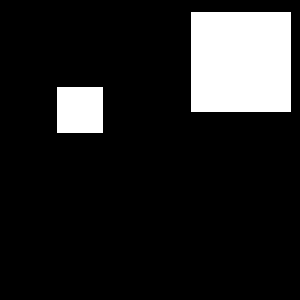circle: (191, 12, 291, 112), (57, 87, 103, 133)
